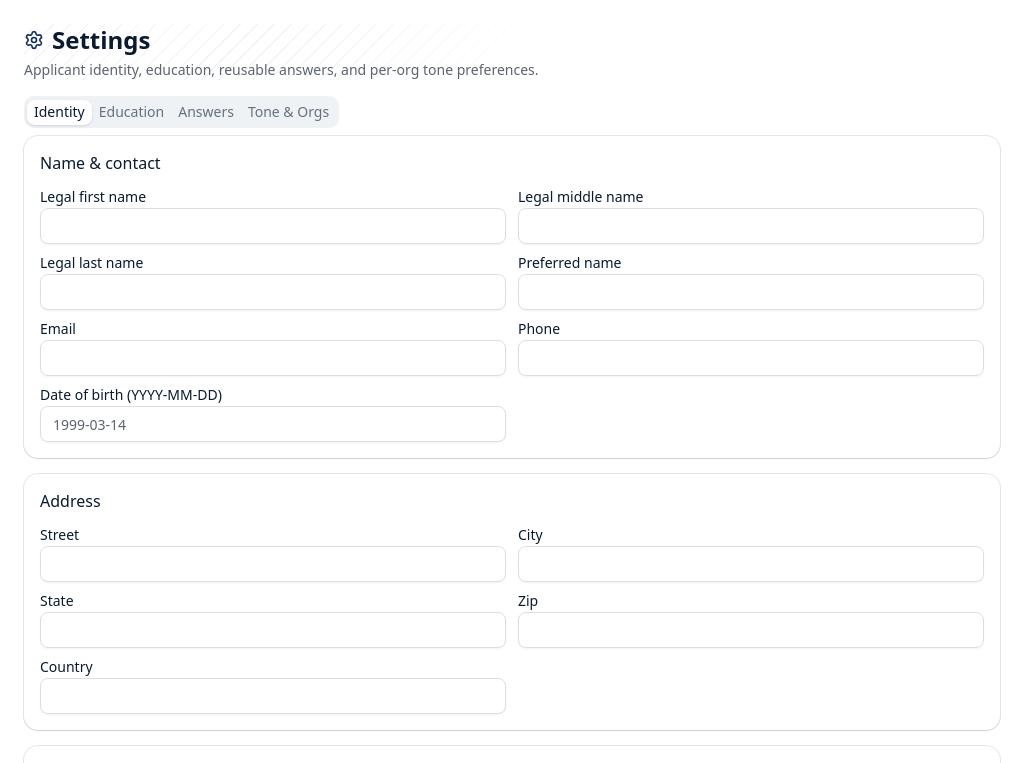
Scenario: Settings - delete button accessible names identify the row › Education: two entries get distinct, findable delete labels
Click the tab "Education": (132, 112) [92,100,171,124]
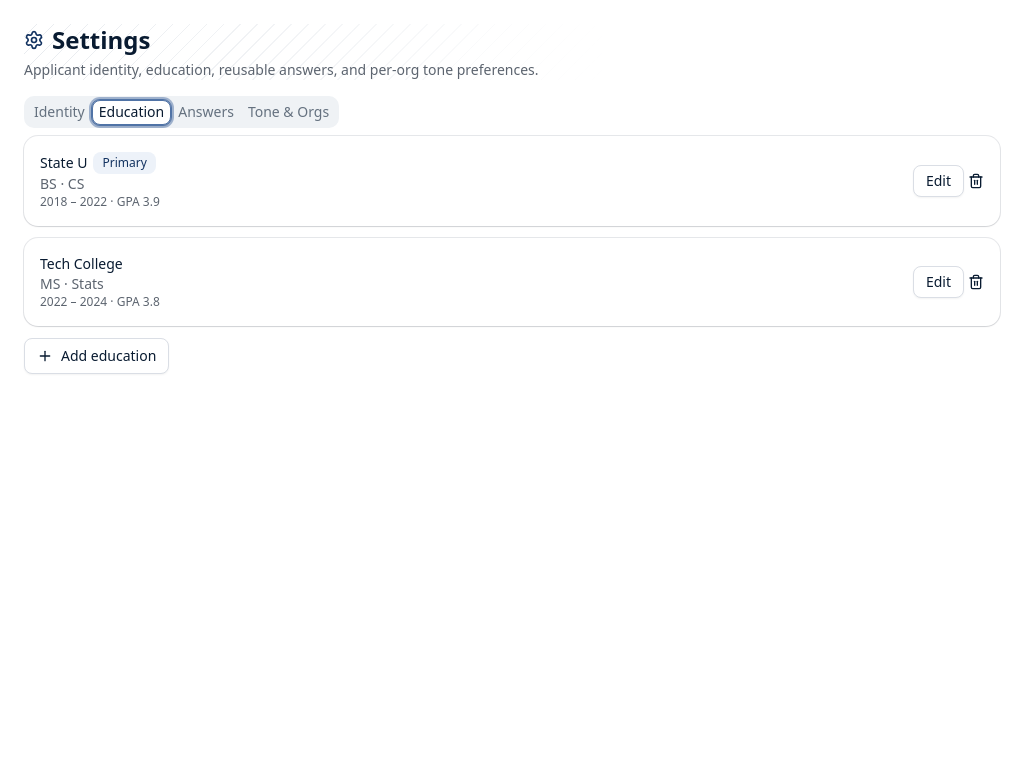
Now the text "State U" is shown, box [40,153,87,172]
Now the button named "Delete education entry: State U" is shown, box [968,165,984,197]
Now the button named "Delete education entry: Tech College" is shown, box [968,266,984,298]
